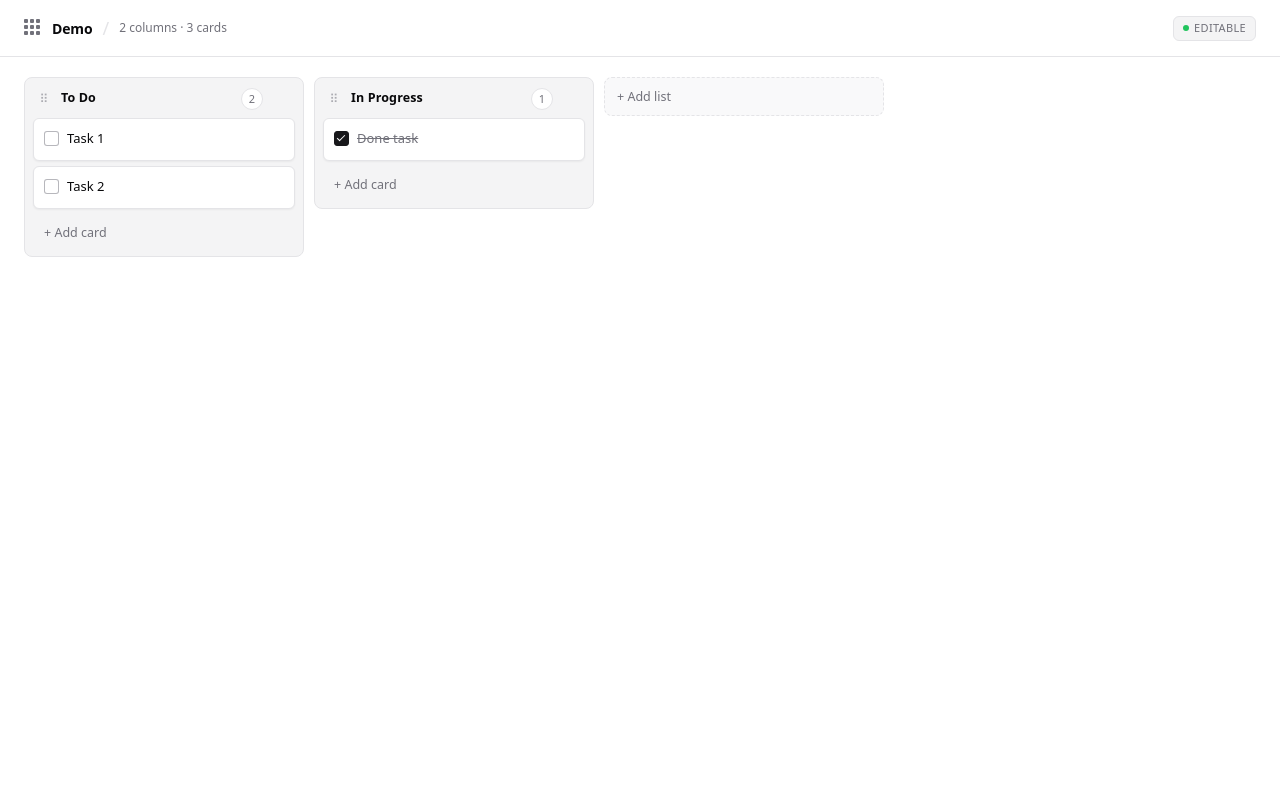
Test case: Board live sync › id-stable adopt: a remote column-add does not remount unchanged cards (open editor survives)
Open the editor on Task 1 and type an uncommitted draft (no save scheduled).
Double-click the button "Task 1" at x=86, y=138, box [67,129,104,147]
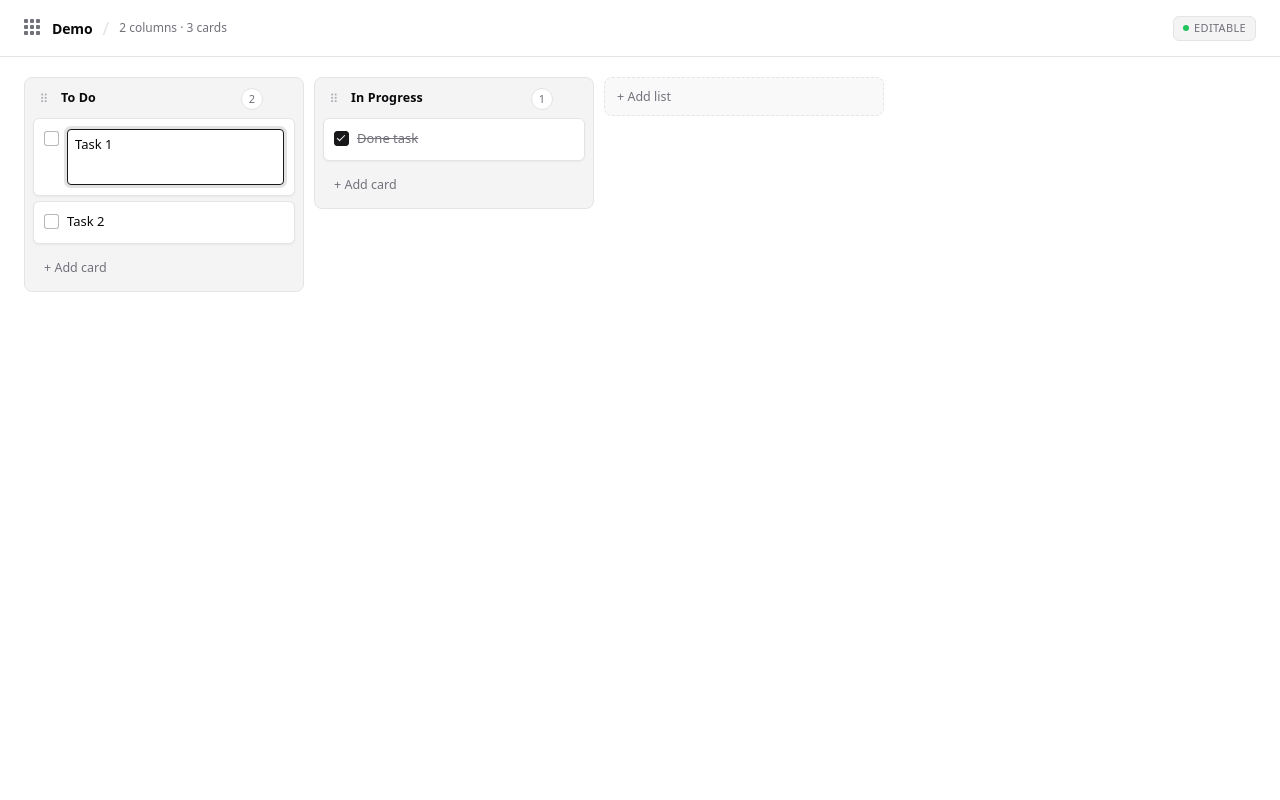
Replace the text in the text box showing "Task 1" with "Task 1 DRAFT" at x=176, y=157, box [67,129,284,185]
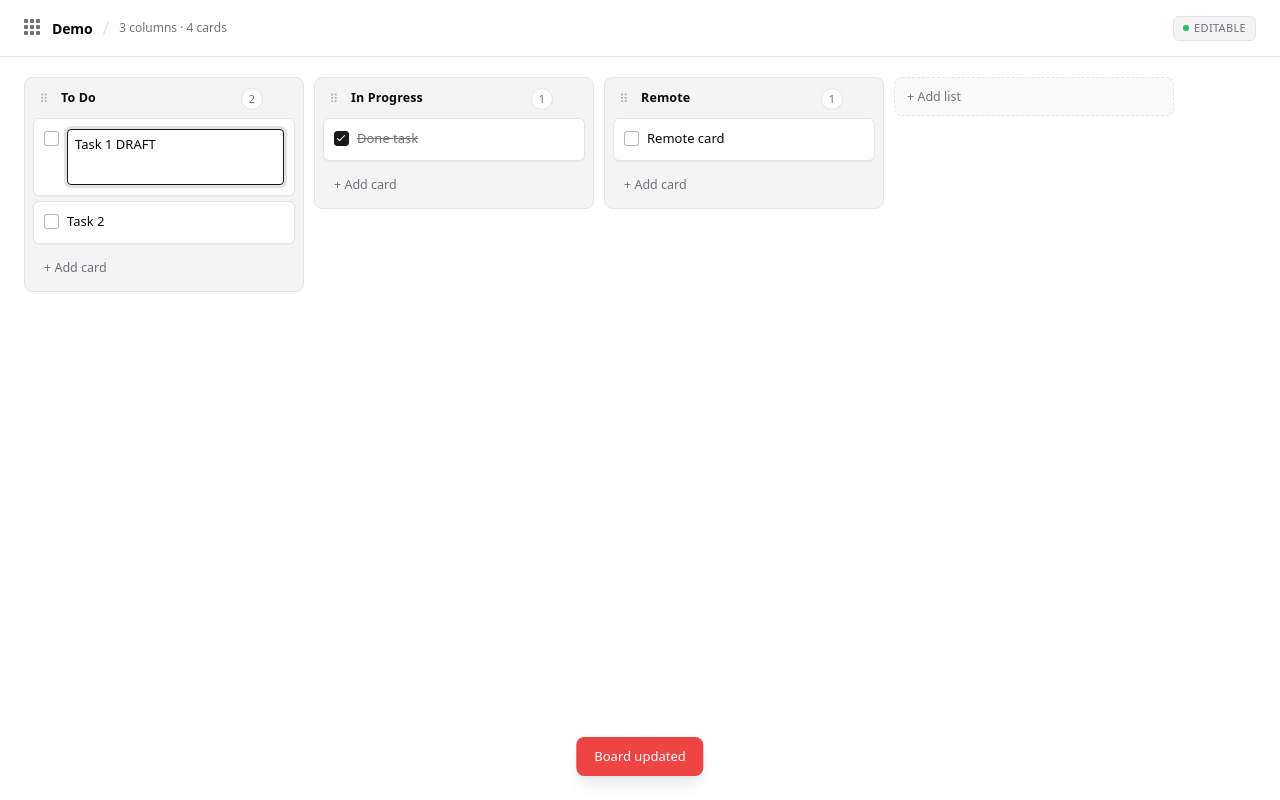
Expected: the button "Remote" is shown, [641,89,690,106]
